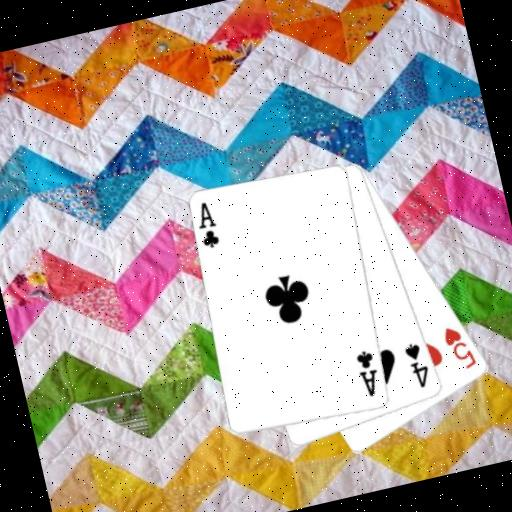4S: (400, 338, 434, 392)
5H: (439, 319, 480, 375)
AC: (191, 198, 224, 253), (352, 347, 385, 401)
